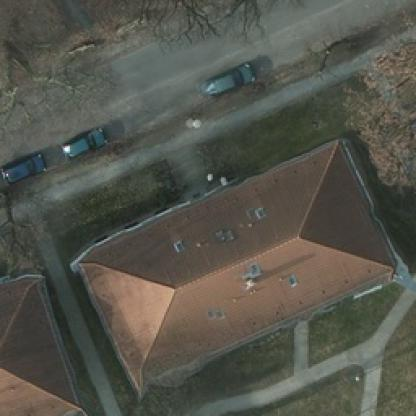car: (200, 55, 255, 96), (58, 117, 108, 156), (0, 150, 44, 184)
